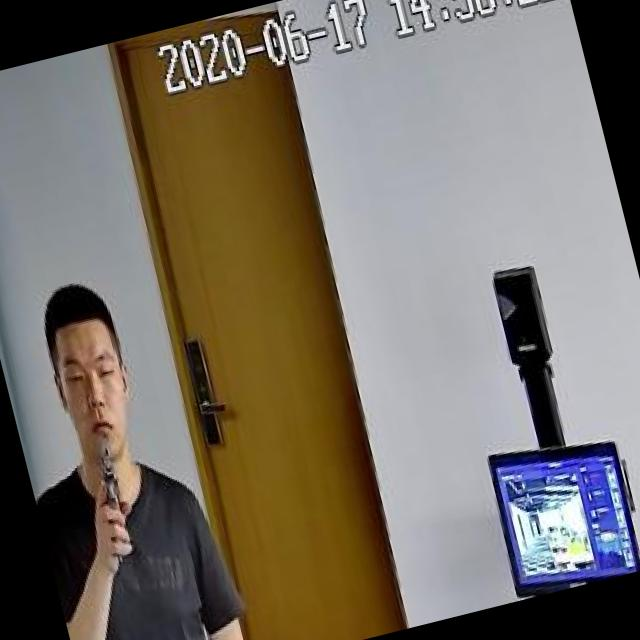Guns: (78, 428, 146, 555)
